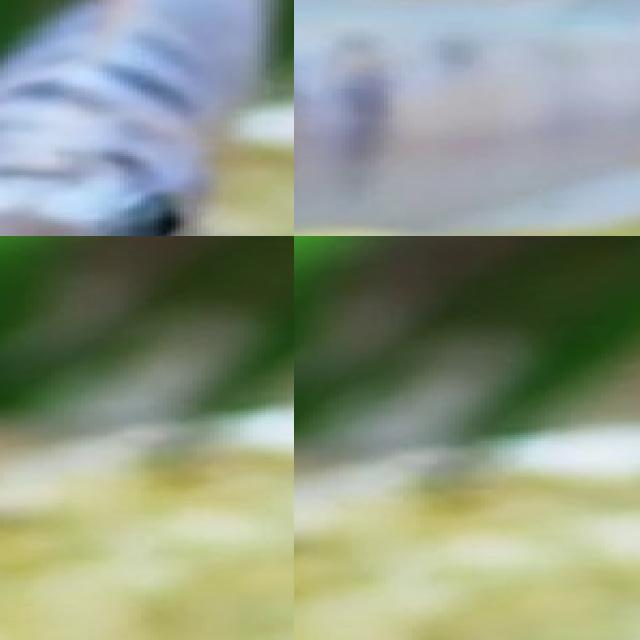fish: (294, 0, 640, 236), (0, 0, 294, 236)
